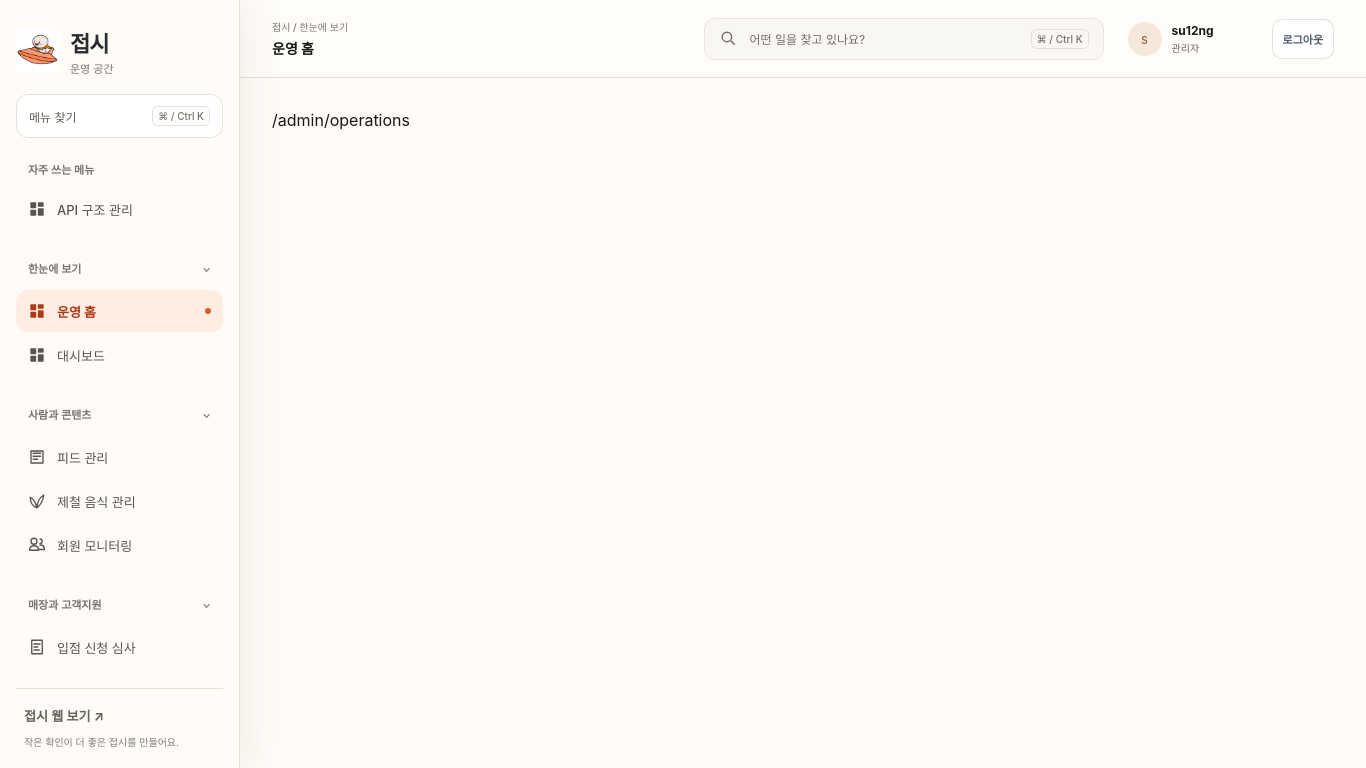
Test: retired marketing menu is absent from search and ignored in stored pins
The image size is (1366, 768).
Click the button with aria-label "메뉴 찾기": (807,40) [704,18,1104,60]
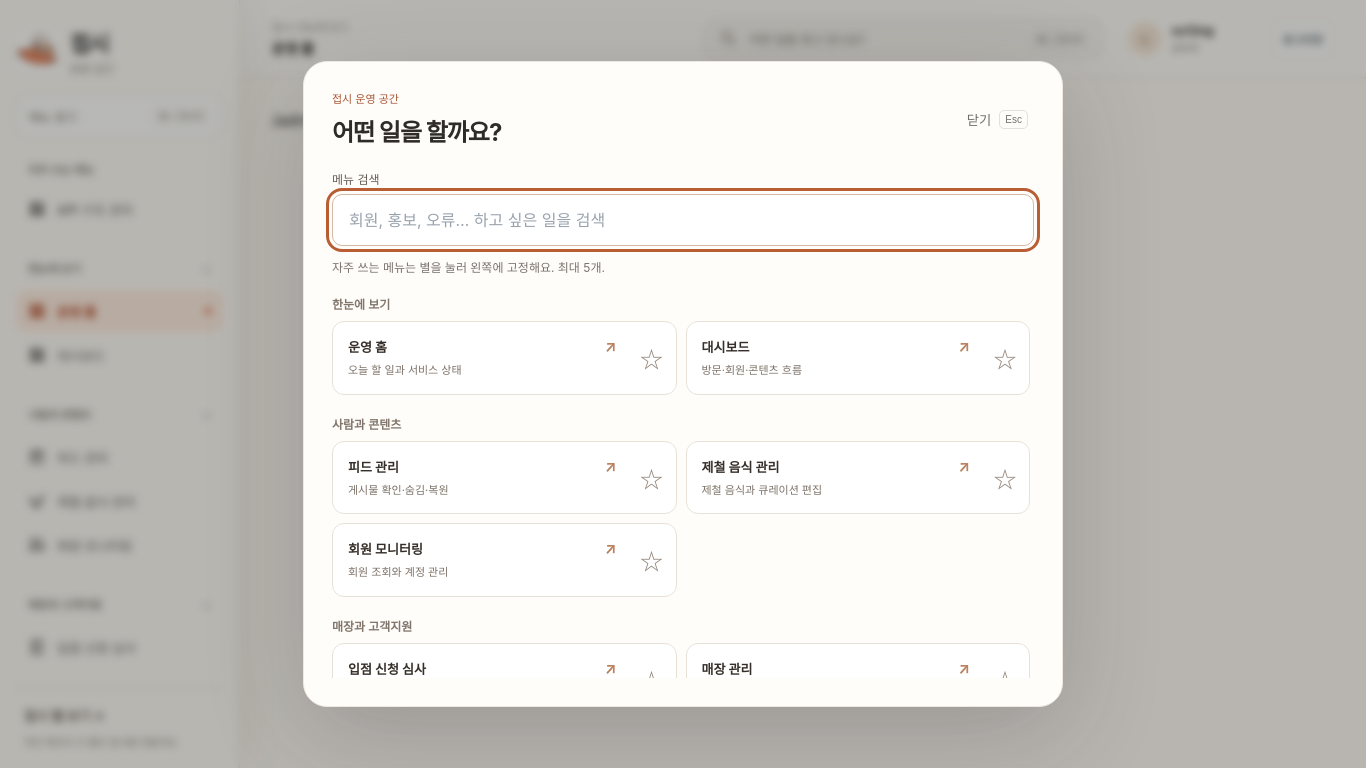
In the search field labelled "메뉴 검색": (683,220) [332,194,1034,246], type "마케팅"
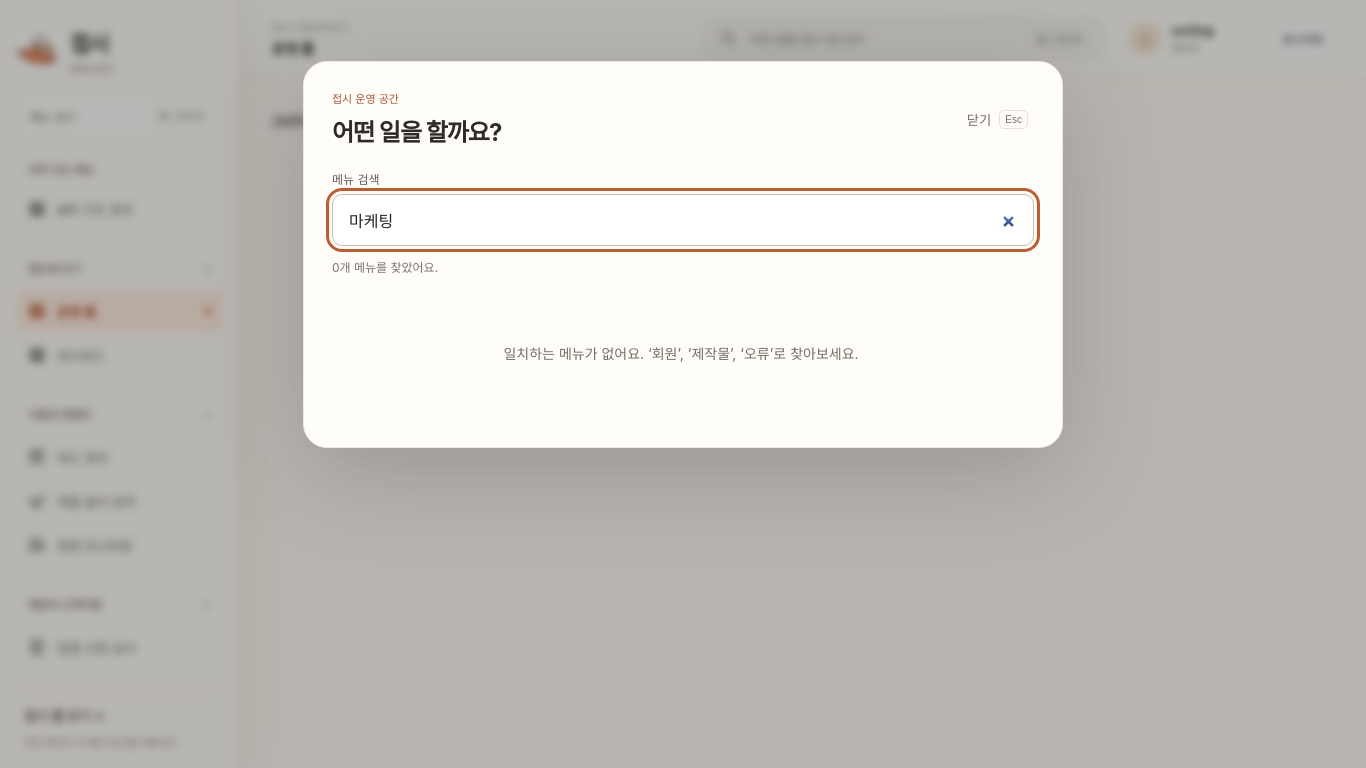
Expected: the link "운영 홈 ↗ 오늘 할 일과 서비스 상태" is gone
Expected: the text "일치하는 메뉴가 없어요. ‘회원’, ‘제작물’, ‘오류’로 찾아보세요." is shown, [503,345,858,362]
